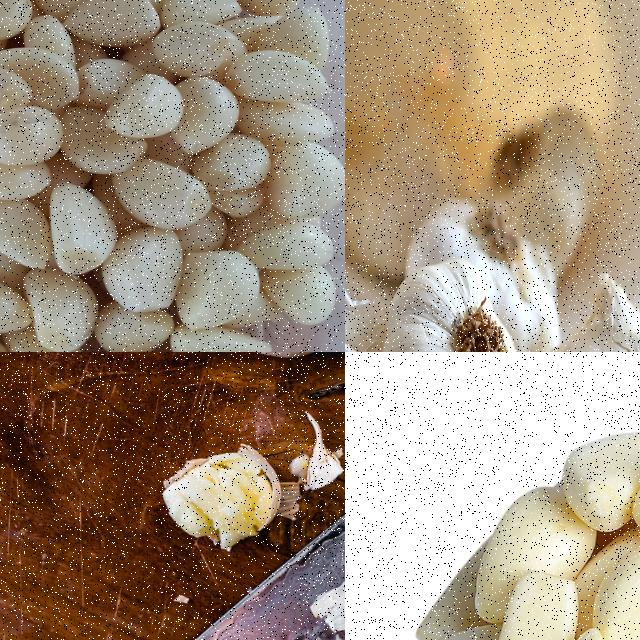garlic: (0, 0, 344, 351), (420, 426, 639, 639), (379, 255, 549, 351)
